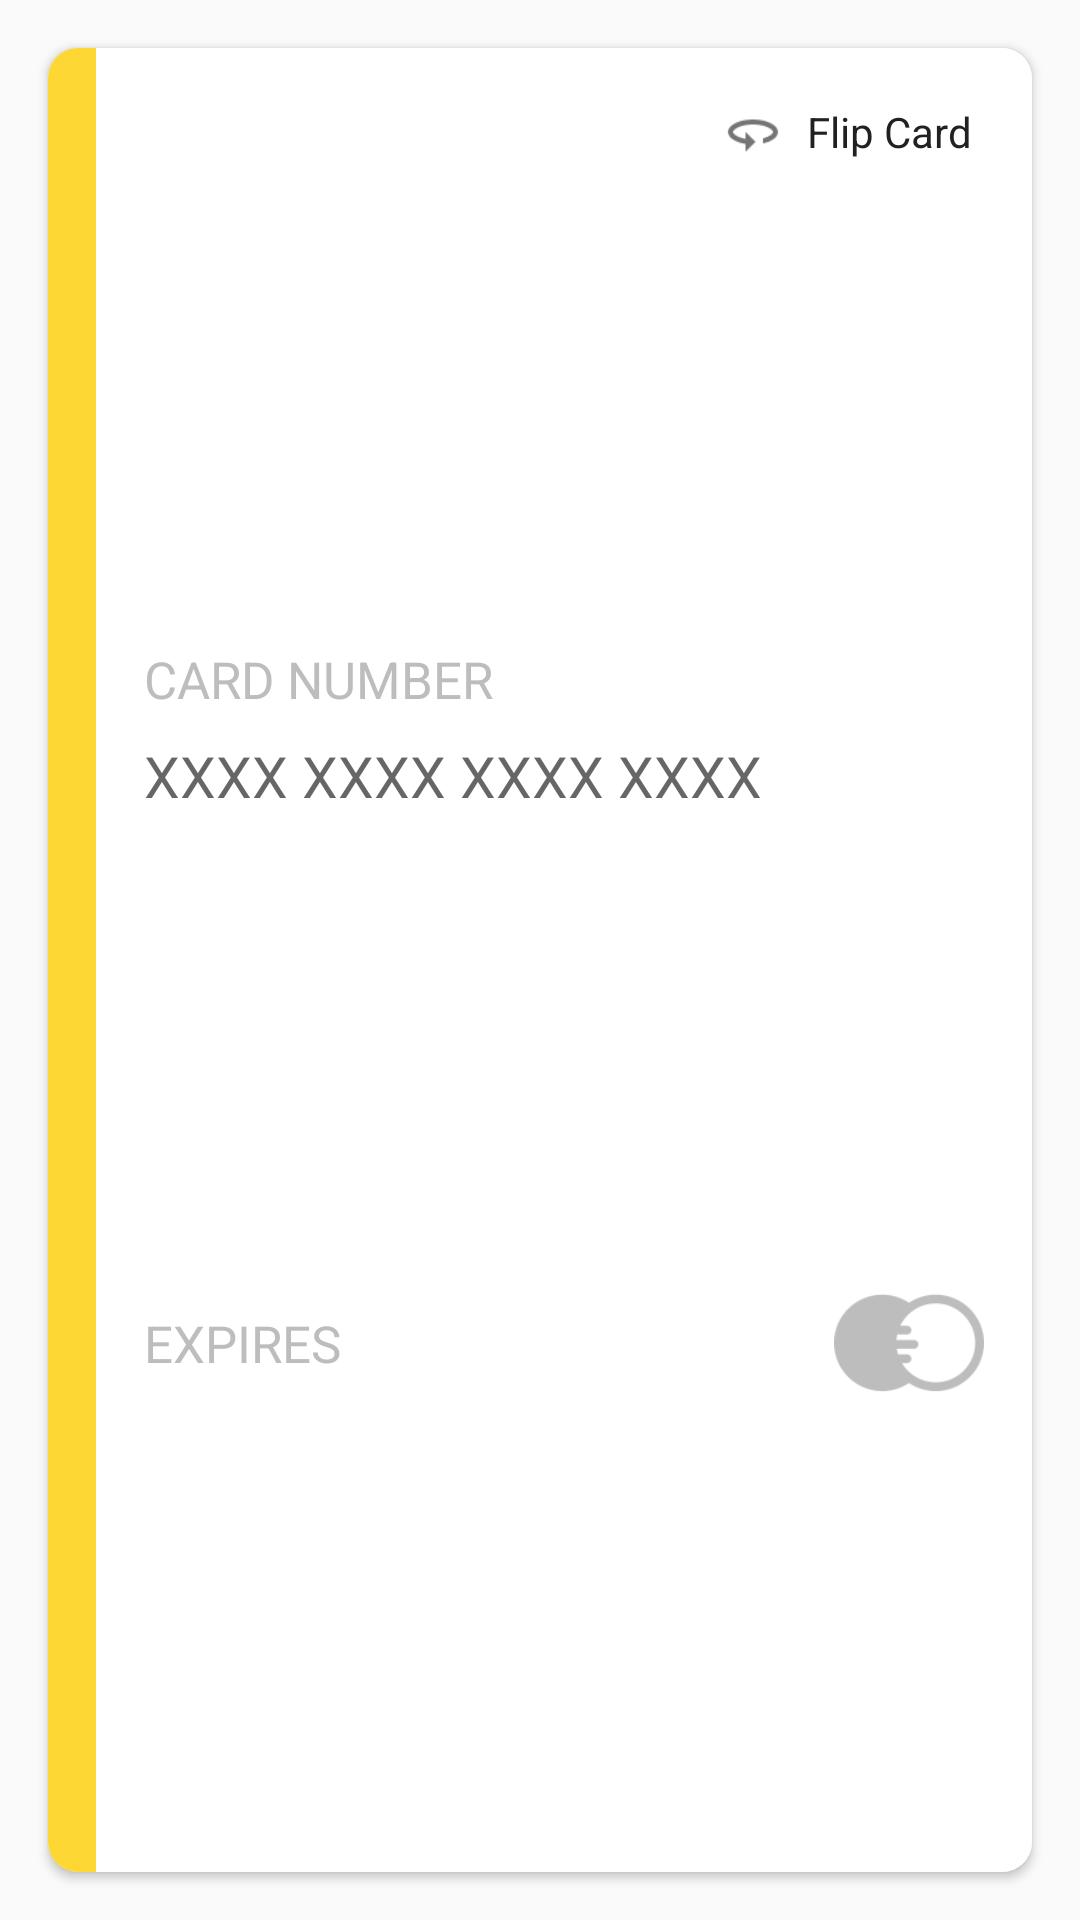

Locate icon controls on the screen. Image size 1080*1920, boxes as (x1,y1,x2,y2).
flip horizontal: (728,119,778,152)
